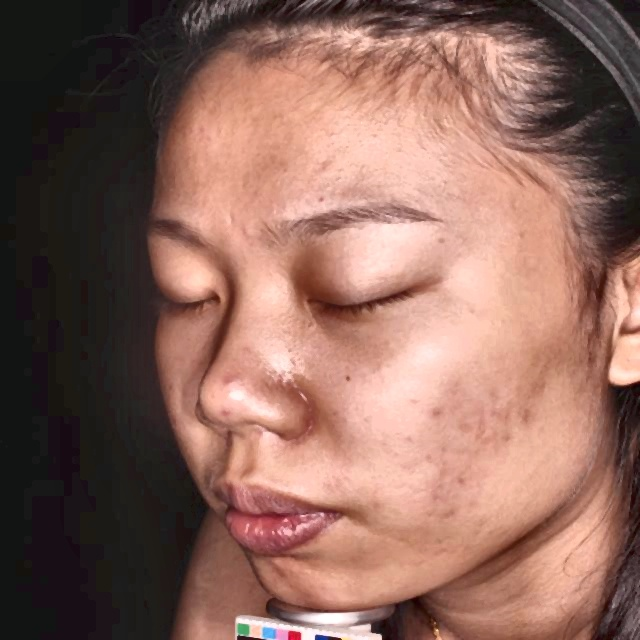comedone: (478, 377, 498, 404)
